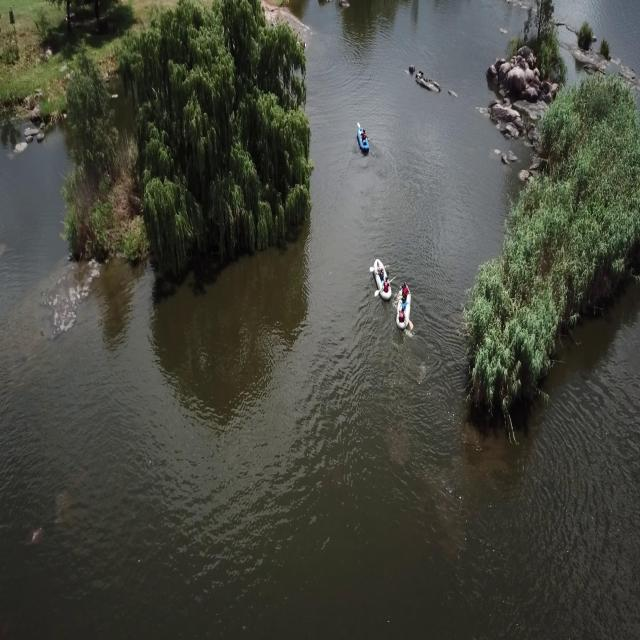kayak: (369, 251, 394, 303), (395, 282, 414, 334), (355, 121, 371, 158)
